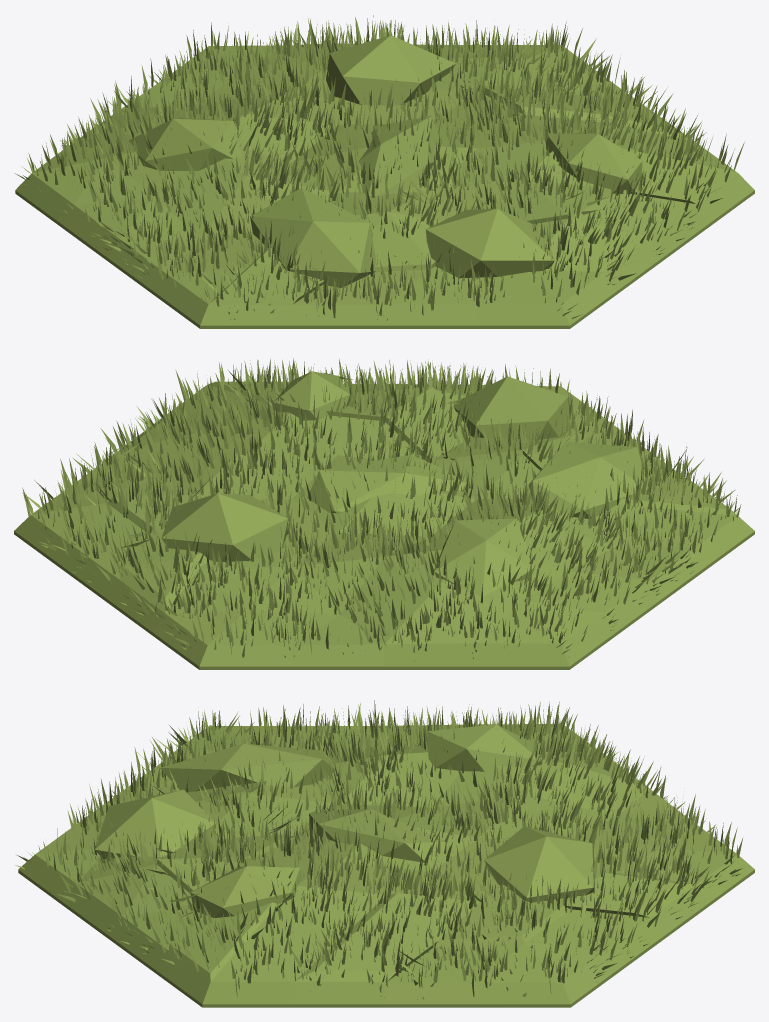
Rendered from grassland.glb.
3 views of the same model, one above another, from view 1: azimuth 30°, elevation 25°; view 2: azimuth 150°, elevation 25°; view 3: azimuth 270°, elevation 25° (orthographic).
Visible parts, largest first — view 1: grassland; view 2: grassland; view 3: grassland.
Part boxes in pixels (x1,y1,x2,y2): grassland: (15, 15, 754, 328); grassland: (14, 358, 754, 669); grassland: (15, 700, 754, 1007).
Size of the model in its own units: 1.81 by 0.2794 by 2.01.
